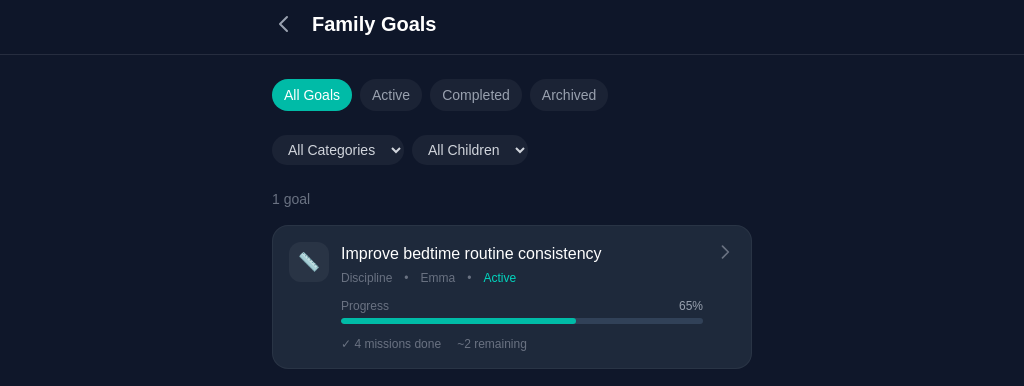
Family Section › GoalsPage - Goals Overview › filtering works › clears filters when "Clear filters" is clicked
// Apply filter that yields no results
Click the button "Completed" at coordinates (476, 95), box [430, 79, 522, 111]
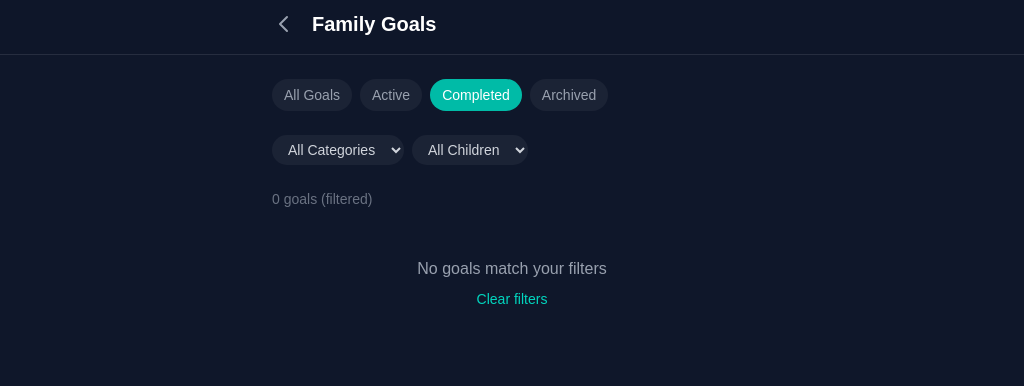
// Click clear filters
Click the button "Clear filters" at coordinates (512, 299), box [477, 289, 547, 309]
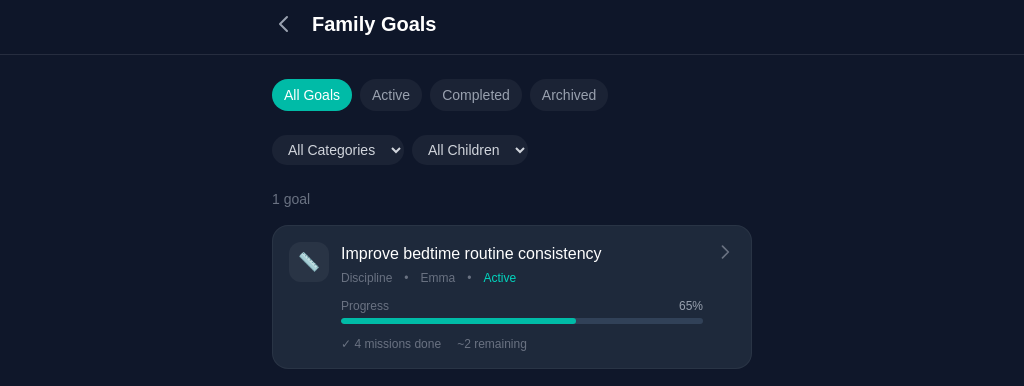
Check: the text "1 goal" is shown, box [272, 191, 310, 207]
Check: the text "No goals match your filters" is gone
